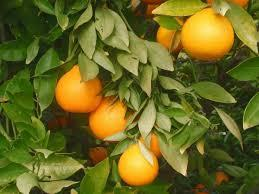orange: (176, 0, 238, 64), (56, 63, 105, 106), (119, 137, 167, 175), (85, 97, 133, 132)
